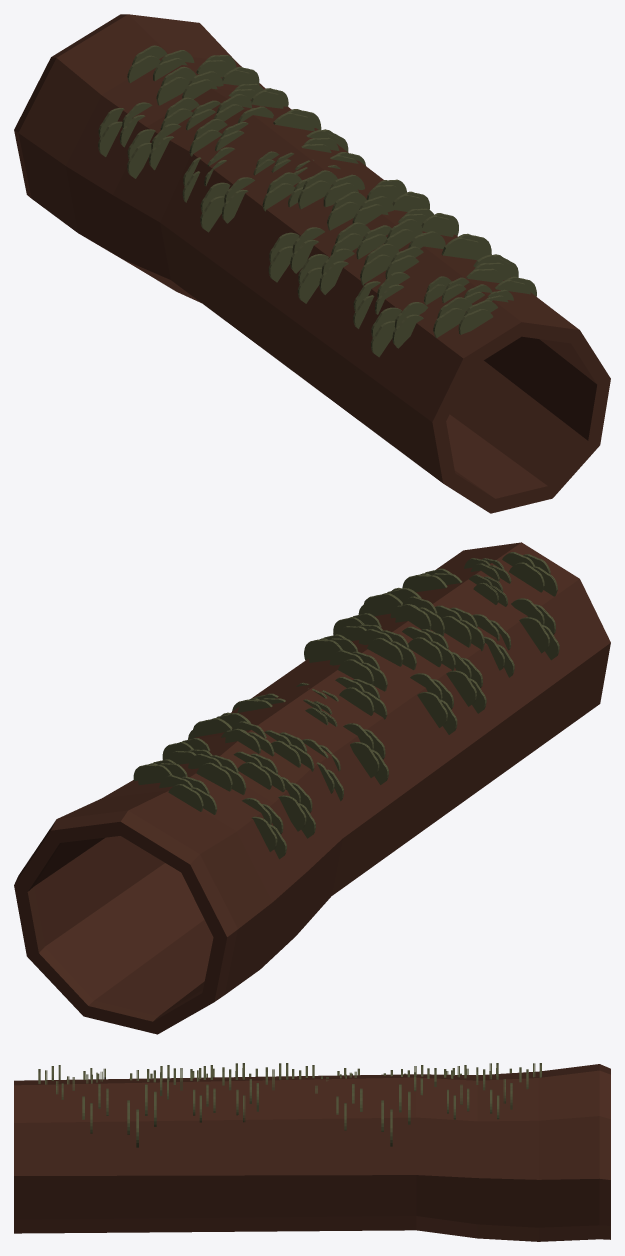
The model's file is FungusLog.fbx.
The picture shows the model from 3 angles, top to bottom: view 1: azimuth 30°, elevation 25°; view 2: azimuth 150°, elevation 25°; view 3: azimuth 270°, elevation 25°; orthographic projection. The views are drawn at different scales.
Parts seen in each view (by area): view 1: Cylinder, Circle.001, Circle; view 2: Cylinder, Circle.001, Circle; view 3: Cylinder, Circle.001, Circle.
Part boxes in pixels (box(x1,y1,x2,y2)): Cylinder: box(14, 14, 610, 513); Circle.001: box(268, 170, 536, 357); Circle: box(98, 45, 365, 232); Cylinder: box(14, 542, 610, 1034); Circle.001: box(304, 552, 559, 734); Circle: box(133, 677, 388, 859); Cylinder: box(14, 1064, 610, 1241); Circle.001: box(38, 1063, 288, 1147); Circle: box(292, 1063, 541, 1146).
Size of the model in its own units: 218 by 202 by 689.
